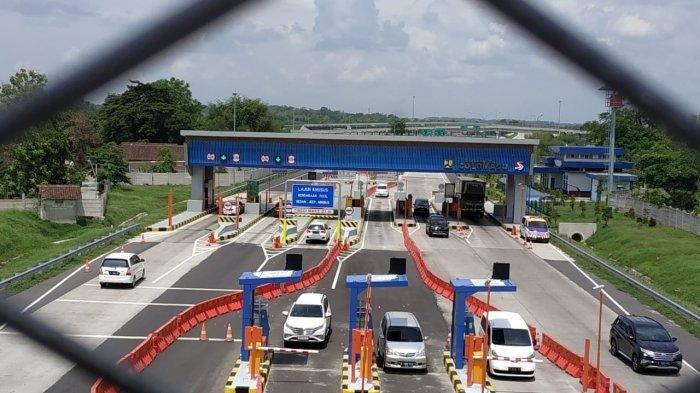car: (610, 313, 681, 375), (480, 308, 536, 381), (377, 310, 428, 374), (285, 291, 328, 350), (100, 252, 144, 287), (522, 212, 549, 244), (427, 211, 450, 240), (305, 220, 331, 245), (224, 200, 243, 218), (414, 197, 429, 216), (375, 183, 389, 198)
